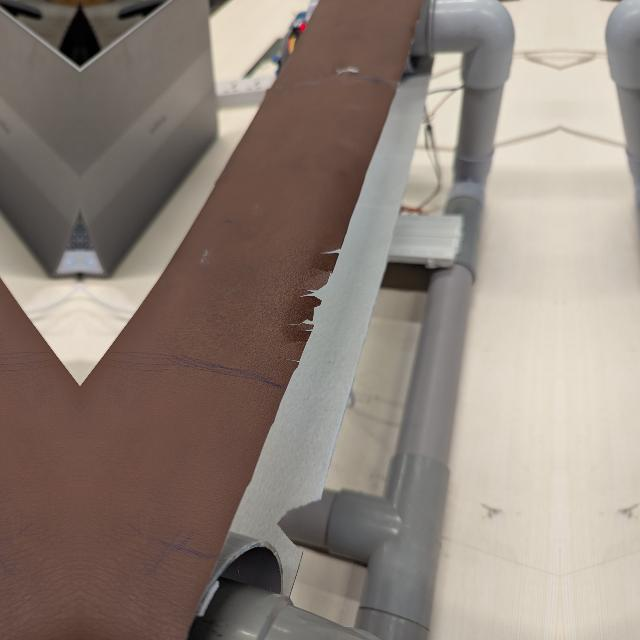edge_damage: (285, 222, 368, 379)
